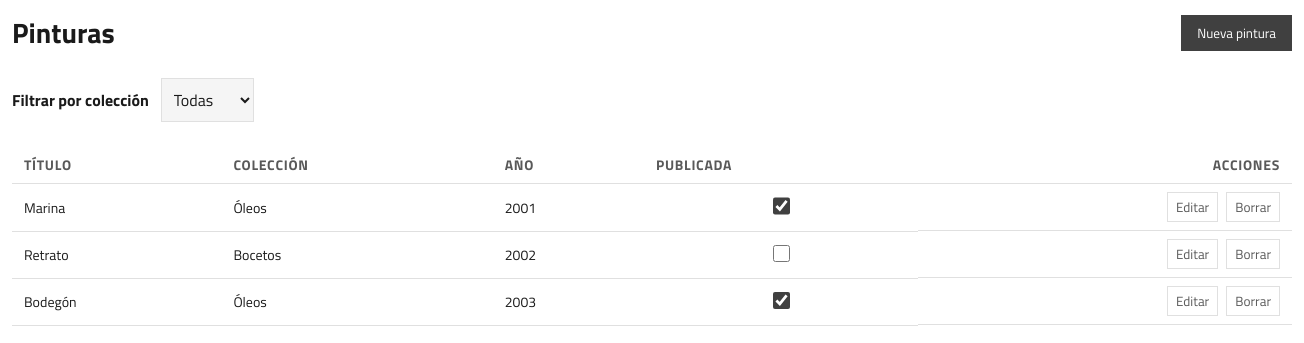
Scenario: AdminPaintings › oculta la reordenación sin filtro (no hay orden global de pinturas)
expect the cell "Marina" is shown: met, box [12,184,221,231]
Select "Óleos" in the dropdown labelled "Filtrar por colección" at (207, 100), box [161,78,254,122]
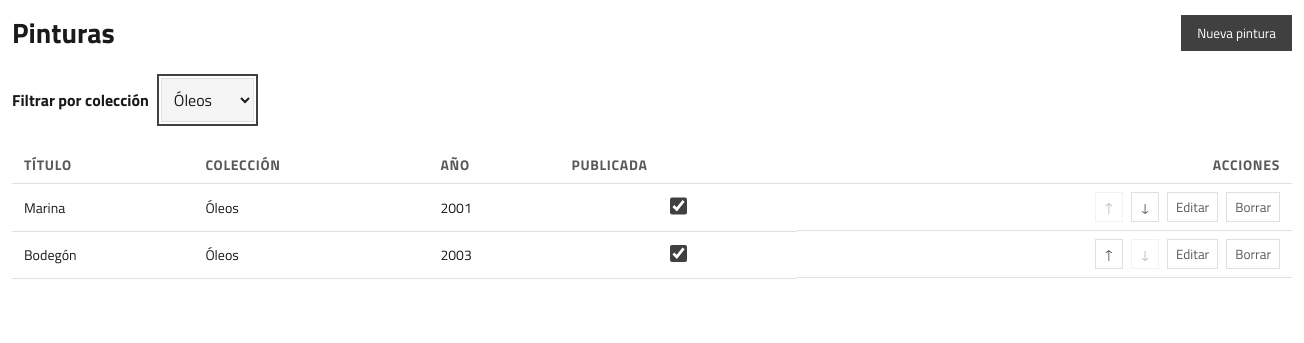
expect the button named "Subir Marina" is shown: met, box [1095,192,1123,222]
expect the button named "Bajar Bodegón" is shown: met, box [1131,239,1159,269]
